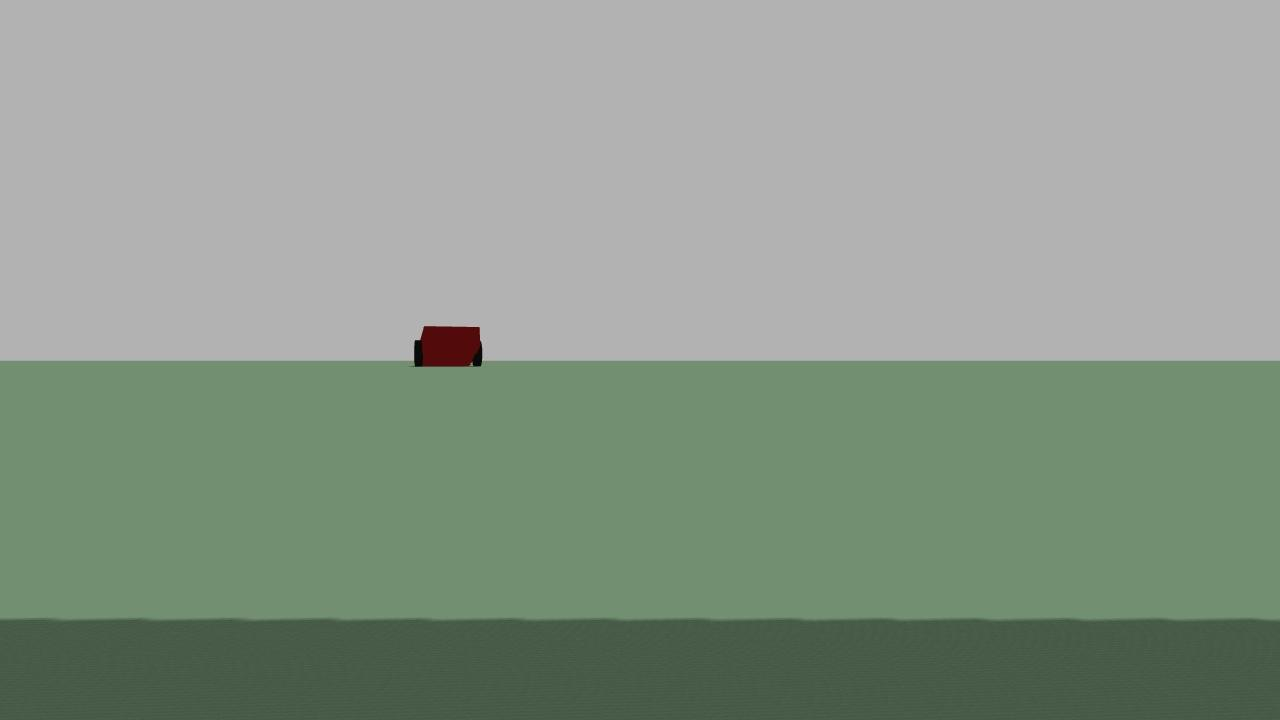ground_vehicle: (405, 317, 485, 375)
